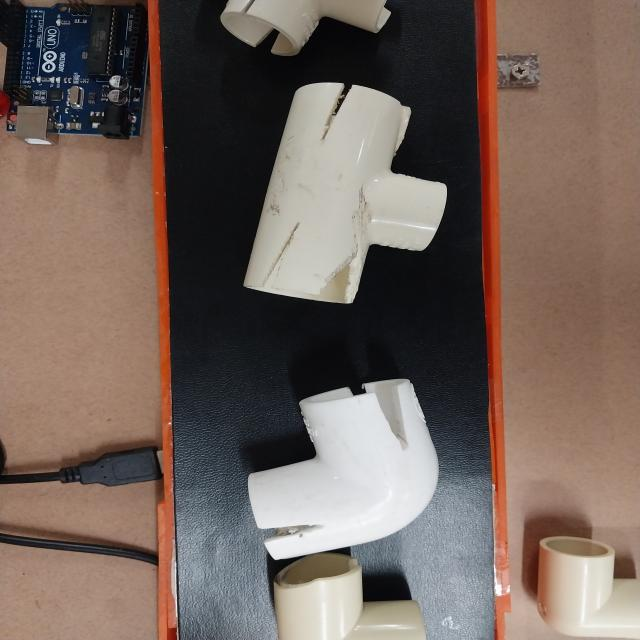Defective: (309, 227, 369, 309), (369, 386, 408, 449), (264, 222, 300, 284), (321, 85, 352, 141), (256, 523, 325, 541), (251, 29, 282, 57)
L Joint: (242, 83, 447, 306)
T Joint: (247, 380, 440, 563)
